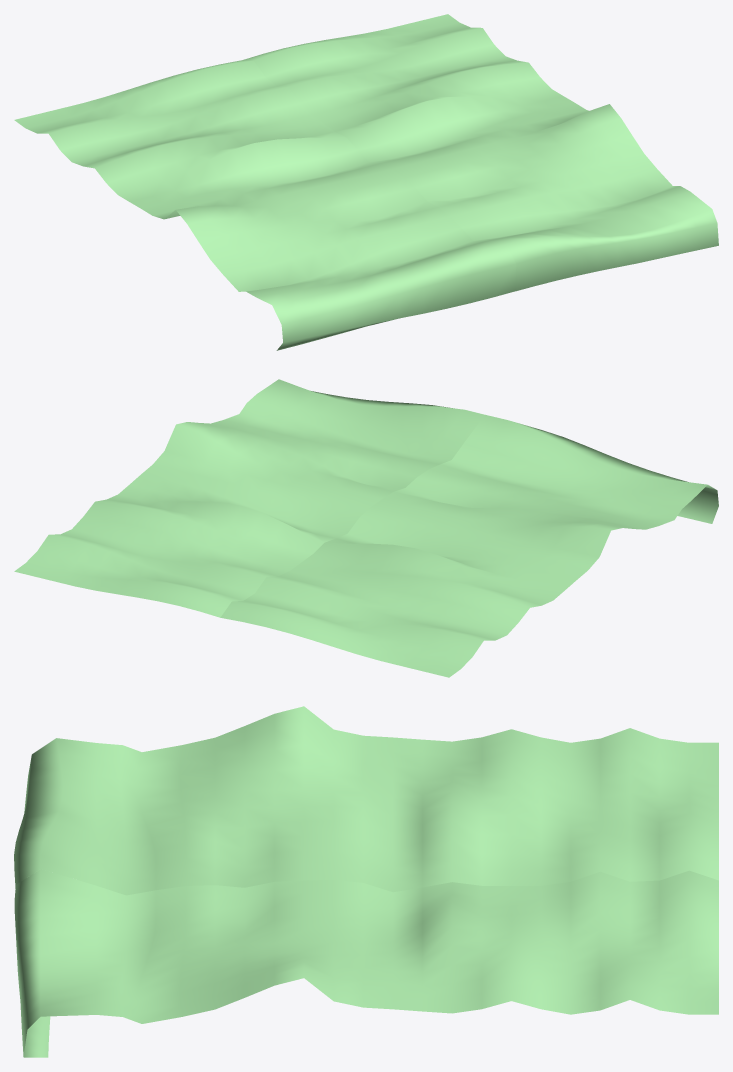
Rendered from turrnain.fbx.
3 renders of one model, top to bottom at view 1: azimuth 30°, elevation 25°; view 2: azimuth 150°, elevation 25°; view 3: azimuth 270°, elevation 25°, orthographic. The views are drawn at different scales.
Parts seen in each view (by area): view 1: default, default_1; view 2: default, default_1; view 3: default, default_1.
Part boxes in pixels (x1=…): default: x1=14, y1=60, x2=516, y2=350; default_1: x1=243, y1=14, x2=718, y2=291; default: x1=220, y1=414, x2=718, y2=677; default_1: x1=14, y1=379, x2=484, y2=617; default: x1=14, y1=706, x2=718, y2=895; default_1: x1=14, y1=869, x2=718, y2=1057.
Size of the model in its own units: 70756 by 10491 by 77531.
